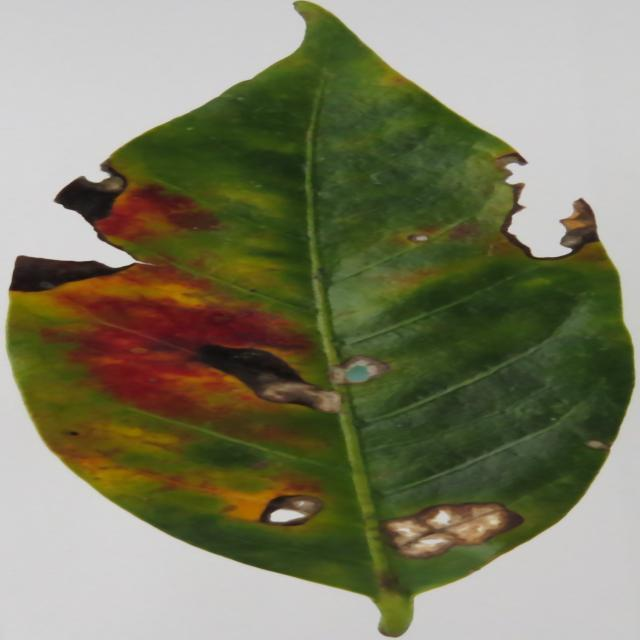DeficienciaNutricional-Fosforo: (9, 2, 632, 635)
